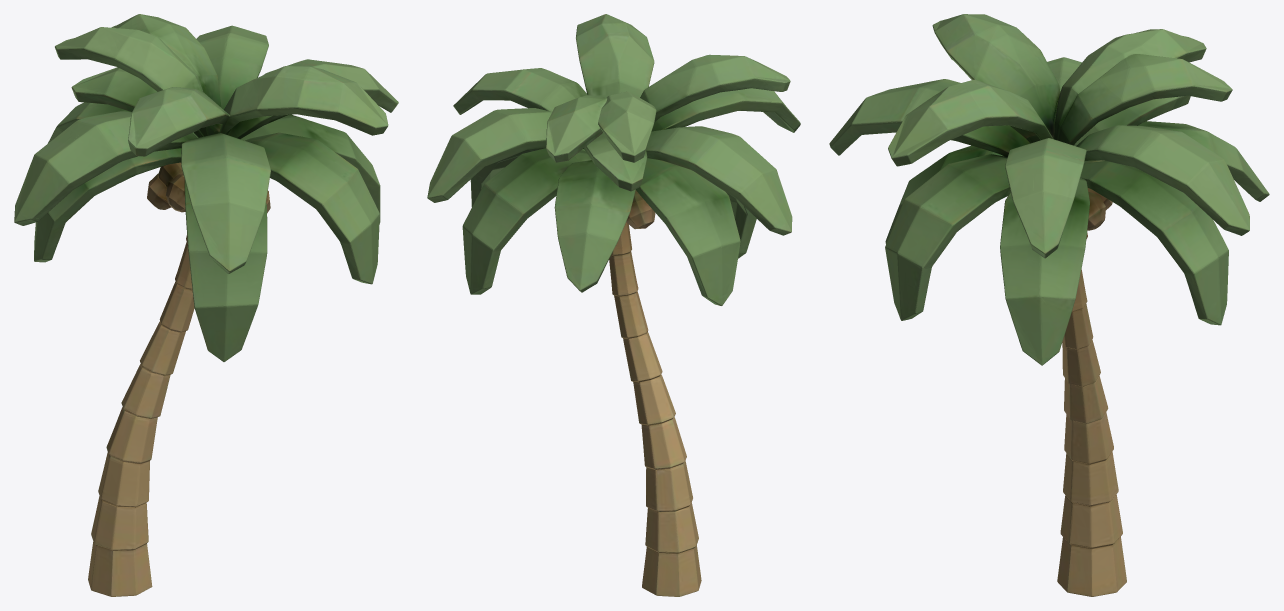
The model's file is palmier.glb.
The picture shows the model from 3 angles, left to right: view 1: azimuth 30°, elevation 25°; view 2: azimuth 150°, elevation 25°; view 3: azimuth 270°, elevation 25°; orthographic projection. The views are drawn at different scales.
Parts seen in each view (by area): view 1: node_0; view 2: node_0; view 3: node_0.
Boxes of the visible parts, x1,y1,x2,y2 form: node_0: (14, 14, 398, 596); node_0: (427, 14, 800, 596); node_0: (829, 14, 1269, 596).
Bounding box in the file's own units: 0.812 × 1.1 × 0.7814.
Materials: 1 (1 with a texture image).
